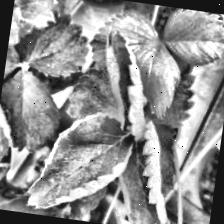Powdery Mildew Leaf: (23, 104, 138, 222), (110, 115, 190, 224), (93, 28, 159, 142), (7, 0, 60, 58)
